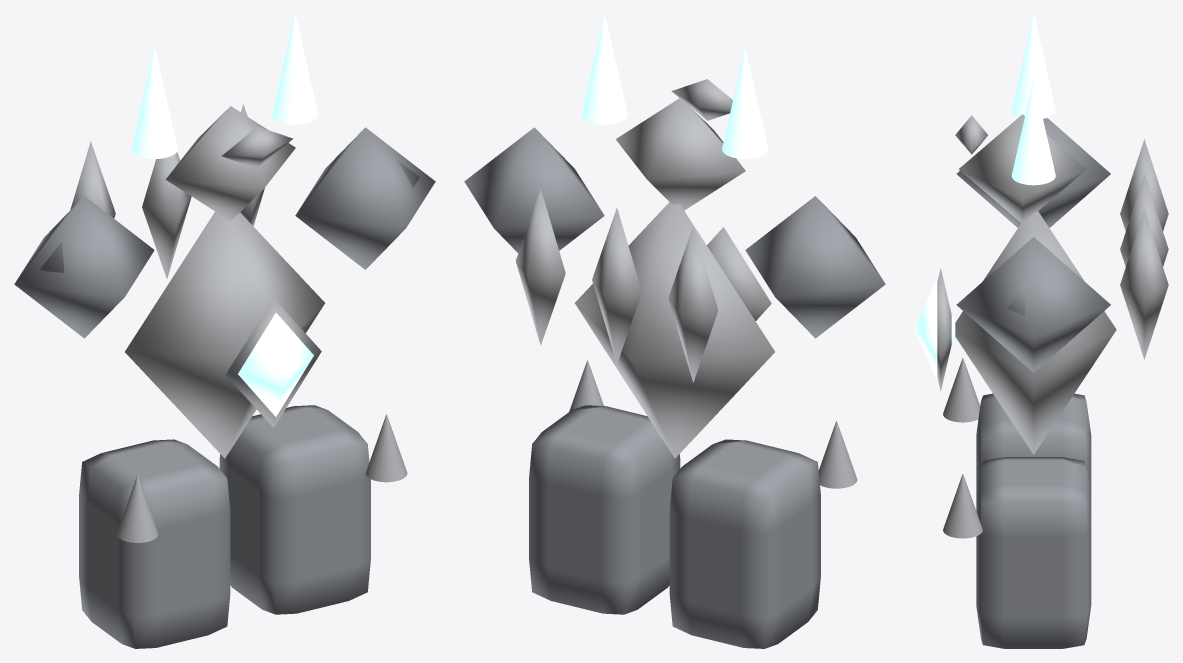
The model's file is stone-golem.glb.
3 views of the same model, side by side, from view 1: azimuth 30°, elevation 25°; view 2: azimuth 150°, elevation 25°; view 3: azimuth 270°, elevation 25° (orthographic). The views are drawn at different scales.
Visible parts, largest first — view 1: leftLeg, rightLeg, torso, shoulder1, shoulder-1, head, core, backShard1, horn1, horn-1, CoreFrame, Knuckle1 (+3 smaller); view 2: leftLeg, rightLeg, torso, shoulder-1, shoulder1, head, backShard1, backShard0, backShard2, horn1, horn-1, CoreFrame (+3 smaller); view 3: rightLeg, torso, shoulder1, head, leftLeg, backShard2, shoulder-1, horn1, horn-1, backShard0, backShard1, Knuckle1 (+4 smaller).
Boxes of the visible parts, x1,y1,x2,y2 form: leftLeg: (79,439,230,648); rightLeg: (219,405,370,614); torso: (125,211,324,458); shoulder1: (295,127,435,269); shoulder-1: (14,196,154,338); head: (166,106,295,220); core: (238,313,313,416); backShard1: (142,152,191,278); horn1: (272,14,318,124); horn-1: (131,48,177,158); CoreFrame: (225,298,321,427); Knuckle1: (365,414,407,482); leftLeg: (669,439,820,648); rightLeg: (529,405,680,614); torso: (575,202,774,458); shoulder-1: (745,196,885,338); shoulder1: (464,127,604,252); head: (615,97,745,210); backShard1: (592,208,641,363); backShard0: (668,226,718,382); backShard2: (515,189,565,345); horn1: (581,14,627,124); horn-1: (722,48,768,158); CoreFrame: (707,227,771,320); rightLeg: (976,457,1091,648); torso: (955,211,1116,454); shoulder1: (956,237,1110,372); head: (958,114,1086,223); leftLeg: (976,393,1091,499); backShard2: (1120,210,1168,359); shoulder-1: (956,118,1110,227); horn1: (1011,79,1055,185); horn-1: (1011,14,1055,118); backShard0: (1120,139,1168,231); backShard1: (1120,175,1168,266); Knuckle1: (943,474,982,538).
Size of the model in its own units: 2.1 by 2.76 by 1.15.
